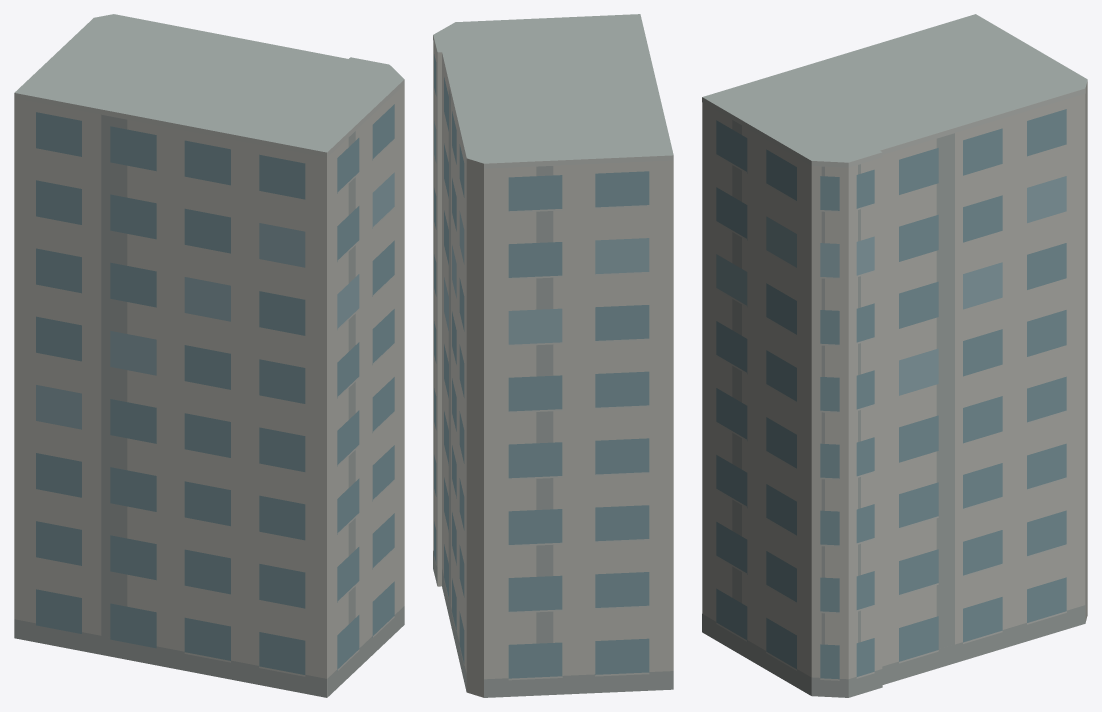
File: survey-upis-32561120.glb
3 renders of one model, left to right at view 1: azimuth 30°, elevation 25°; view 2: azimuth 150°, elevation 25°; view 3: azimuth 270°, elevation 25°, orthographic. The views are drawn at different scales.
Visible parts, largest first — view 1: survey-upis-32561120.tmp; view 2: survey-upis-32561120.tmp; view 3: survey-upis-32561120.tmp.
Boxes of the visible parts, left/top/right/bottom form: survey-upis-32561120.tmp: left=14, top=14, right=404, bottom=697; survey-upis-32561120.tmp: left=433, top=14, right=673, bottom=697; survey-upis-32561120.tmp: left=702, top=14, right=1087, bottom=697.
Bounding box in the file's own units: 15.05 × 25.25 × 16.5.
